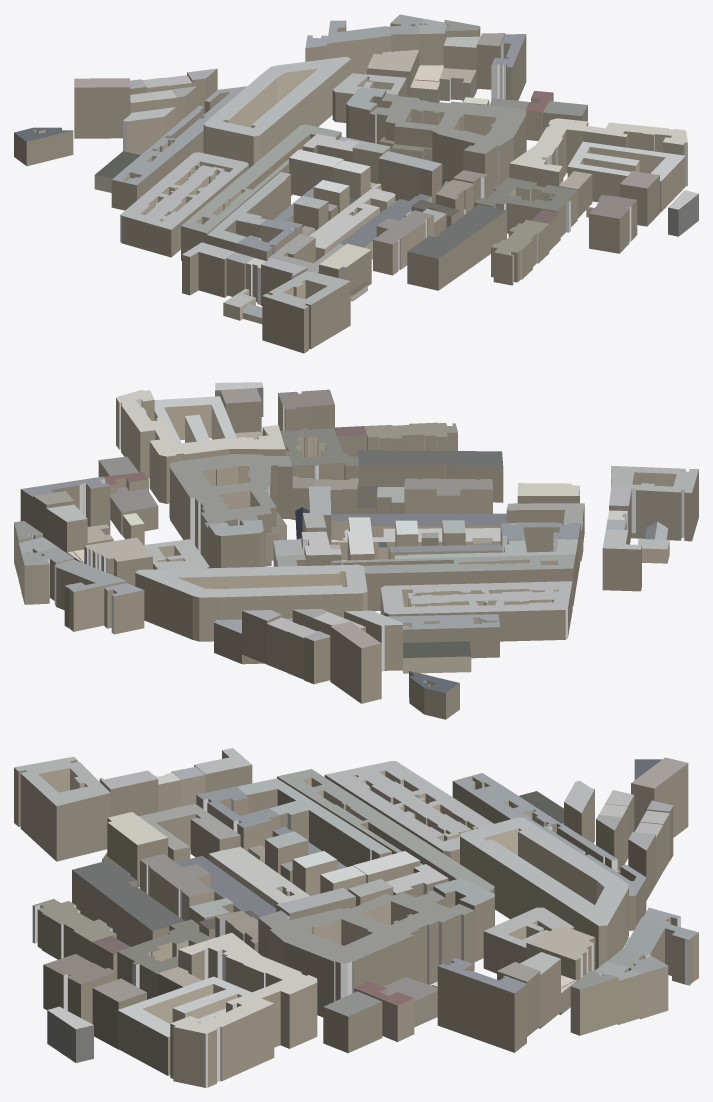
The picture shows the model from 3 angles, top to bottom: view 1: azimuth 30°, elevation 25°; view 2: azimuth 150°, elevation 25°; view 3: azimuth 270°, elevation 25°; orthographic projection. The views are drawn at different scales.
Visible parts, largest first — view 1: tuile; view 2: tuile; view 3: tuile.
Boxes of the visible parts, box(x1,y1,x2,y2) form: tuile: box(14, 14, 698, 353); tuile: box(14, 382, 698, 719); tuile: box(14, 748, 698, 1087).
Size of the model in its own units: 295 by 40.6 by 284.
